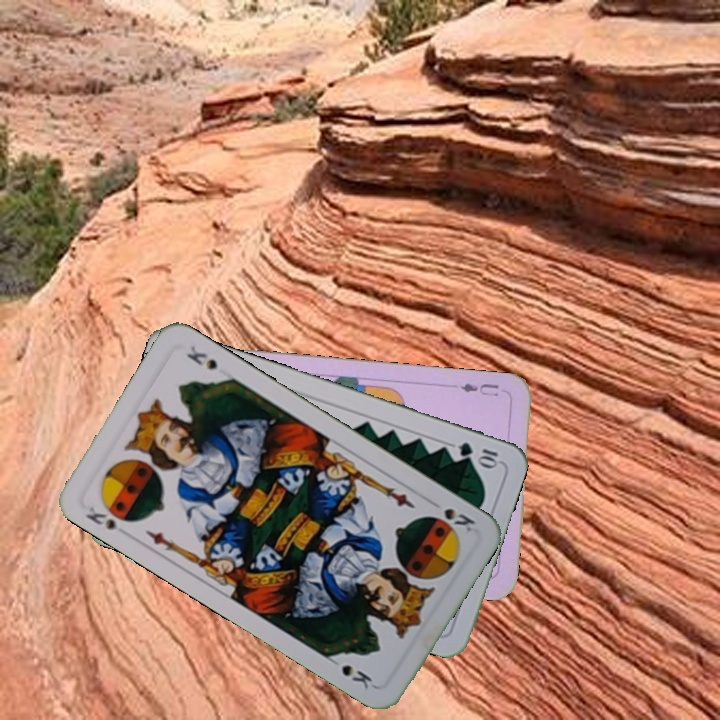EU: (455, 378, 501, 399)
G10: (454, 438, 502, 470)
SK: (425, 504, 478, 535), (81, 501, 119, 533)
